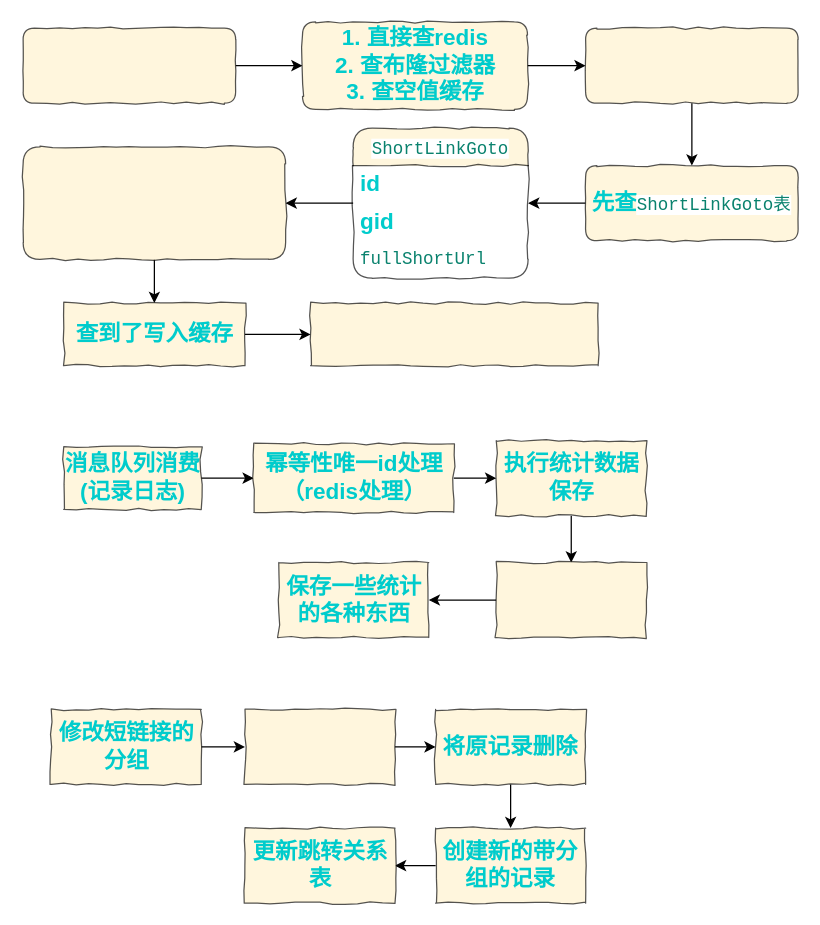
The diagram is 820 pixels wide and 925 high, and some of its shapes have lost their labels. Here are the shapes that lost their labels. From the top down, the centre of each, then its label:
(x=129, y=65): 用户请求短链接
(x=691, y=65): 分布式锁 1. 查redis 2. 查空值缓存
(x=154, y=202): 根据gid（因为是分片键可以直接映射到某张表，不然就要union all）和 fullShortUrl查询完整短链接表
(x=453, y=334): 最后通过消息队列记录日志
(x=570, y=599): 获取读锁
(x=319, y=746): 获取写锁lock
